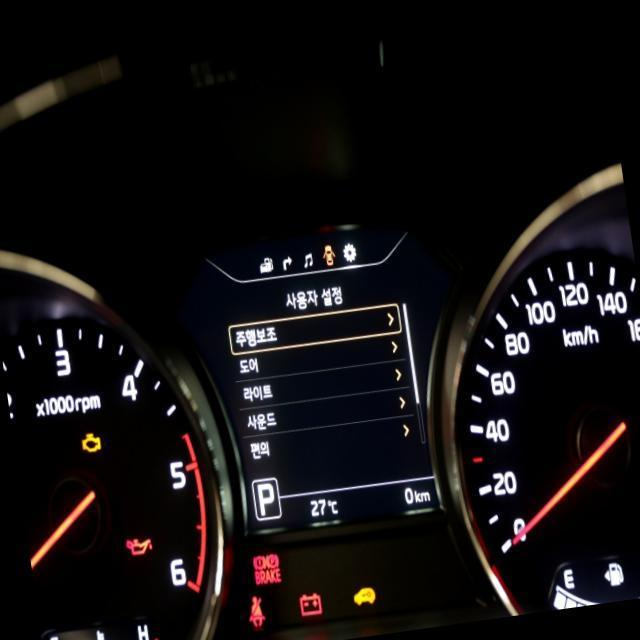Doors: (320, 243, 336, 267)
